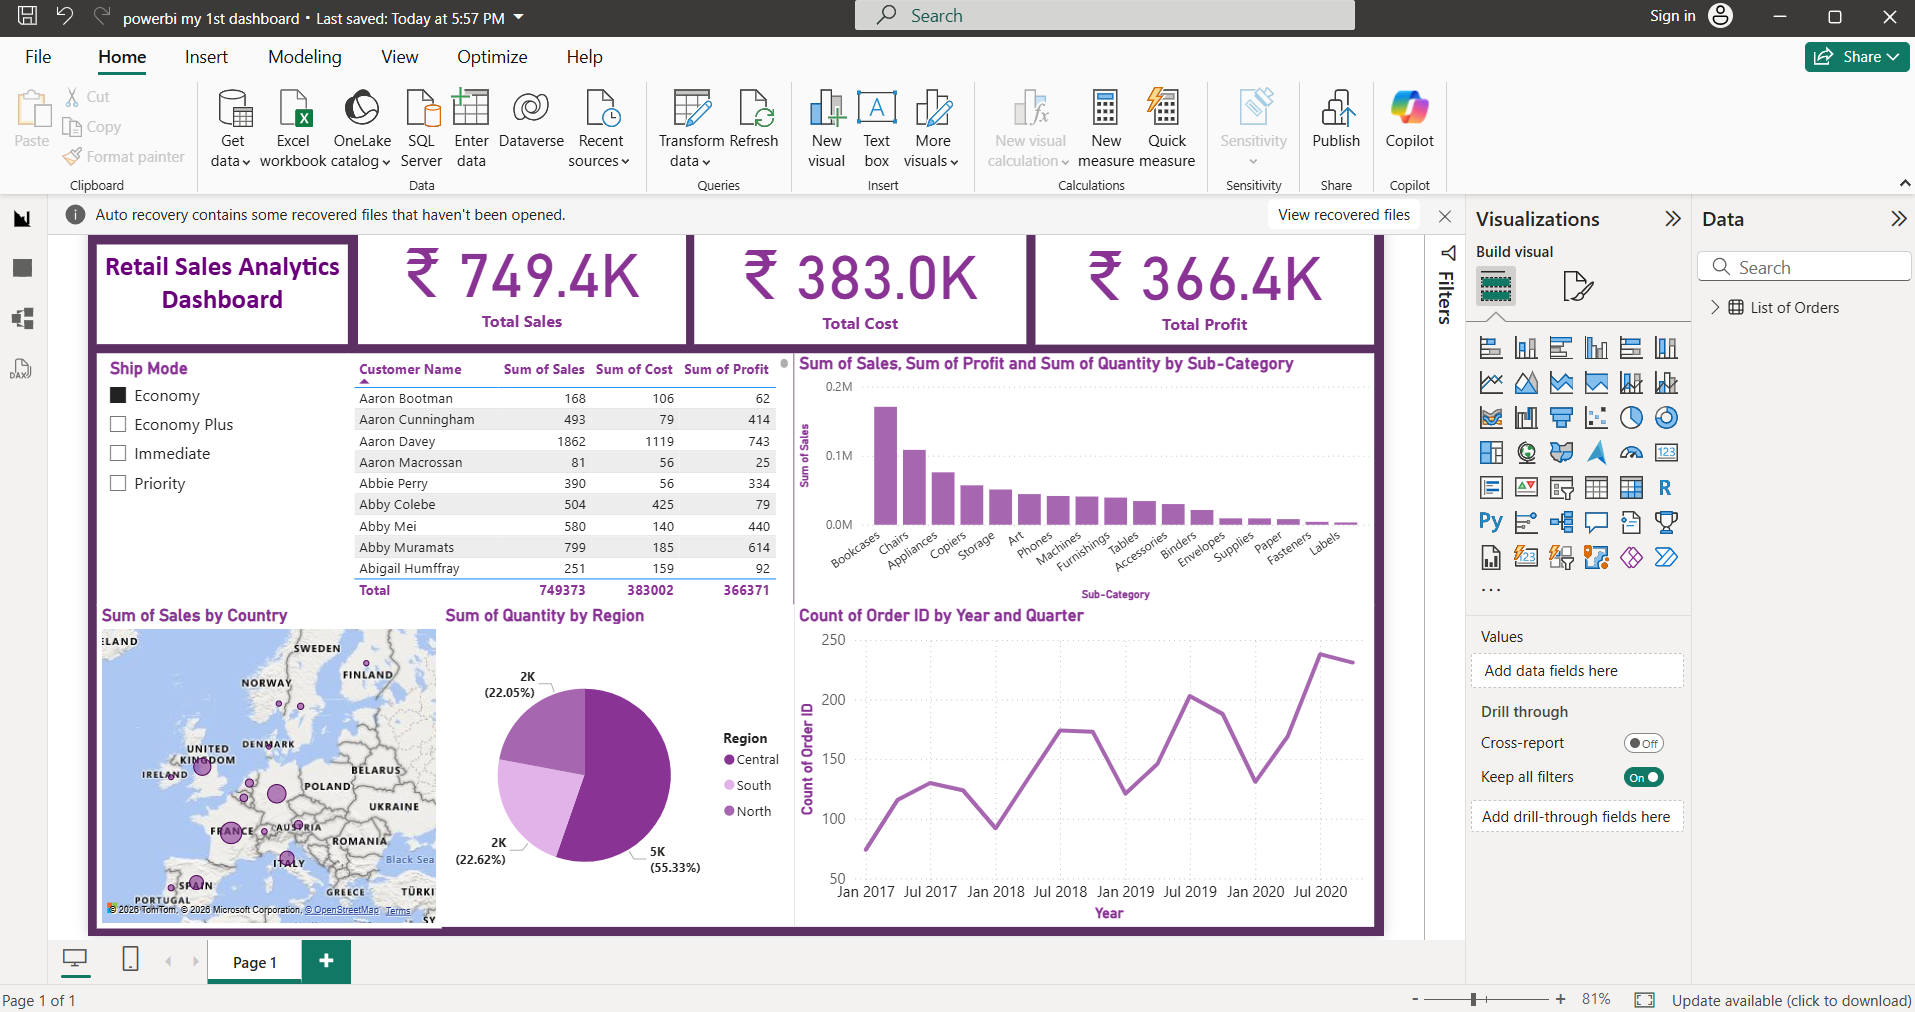

What the dashboard file says about the page in this screenshot:
{"tool":"powerbi","page":{"name":"Page 1","canvas":[1280,720],"ordinal":0},"visuals":[{"type":"card","fields":{"Values":["Sum(List of Orders.Cost)"]},"box":[598.8,9.9,328.4,125.9],"z":0},{"type":"card","fields":{"Values":["Sum(List of Orders.Sales)"]},"box":[267.1,10.1,324.1,125.3],"z":1000},{"type":"card","fields":{"Values":["Sum(List of Orders.Profit)"]},"box":[935.8,11.1,334.6,124.7],"z":2000},{"type":"tableEx","fields":{"Values":["List of Orders.Customer Name","Sum(List of Orders.Sales)","Sum(List of Orders.Cost)","Sum(List of Orders.Profit)"]},"box":[257,144.8,440.4,248.5],"z":3000},{"type":"clusteredColumnChart","title":"Sales and Profit by Sub-Category","fields":{"Y":["Sum(List of Orders.Sales)"],"Category":["List of Orders.Sub-Category"]},"box":[697.5,144.4,572.8,249.4],"z":4000},{"type":"lineChart","title":"Order Trend by Year and Quarter","fields":{"Y":["CountNonNull(List of Orders.Order ID)"],"Category":["List of Orders.Order Date.Variation.Date Hierarchy.Year","List of Orders.Order Date.Variation.Date Hierarchy.Quarter"]},"box":[698.5,392.1,571.9,318.5],"z":5000},{"type":"pieChart","title":"Quantity by Region","fields":{"Y":["Sum(List of Orders.Quantity)"],"Category":["List of Orders.Region"]},"box":[348.1,392.6,349.4,318.5],"z":6000},{"type":"textbox","box":[8.4,10.9,248.5,125.5],"z":7000},{"type":"slicer","fields":{"Values":["List of Orders.Ship Mode"]},"box":[8.4,144.8,248.5,248.5],"z":8000},{"type":"map","title":"Sales by Country","fields":{"Category":["List of Orders.Country"],"Size":["Sum(List of Orders.Sales)"]},"box":[9,393,340,319],"z":9000}]}

Visuals, with their boxes on the page's 1280x720 design canvas (x1, y1, x2, y2). These are canvas units, not pixel positions in the 1915x1012 screenshot, which may show the page scaled, cropped or inside an application window:
card - Sum(List of Orders.Cost): {"x1": 599, "y1": 10, "x2": 927, "y2": 136}
card - Sum(List of Orders.Sales): {"x1": 267, "y1": 10, "x2": 591, "y2": 135}
card - Sum(List of Orders.Profit): {"x1": 936, "y1": 11, "x2": 1270, "y2": 136}
tableEx - List of Orders.Customer Name x Sum(List of Orders.Sales): {"x1": 257, "y1": 145, "x2": 697, "y2": 393}
"Sales and Profit by Sub-Category" clusteredColumnChart: {"x1": 698, "y1": 144, "x2": 1270, "y2": 394}
"Order Trend by Year and Quarter" lineChart: {"x1": 698, "y1": 392, "x2": 1270, "y2": 711}
"Quantity by Region" pieChart: {"x1": 348, "y1": 393, "x2": 698, "y2": 711}
textbox: {"x1": 8, "y1": 11, "x2": 257, "y2": 136}
slicer - List of Orders.Ship Mode: {"x1": 8, "y1": 145, "x2": 257, "y2": 393}
"Sales by Country" map: {"x1": 9, "y1": 393, "x2": 349, "y2": 712}
